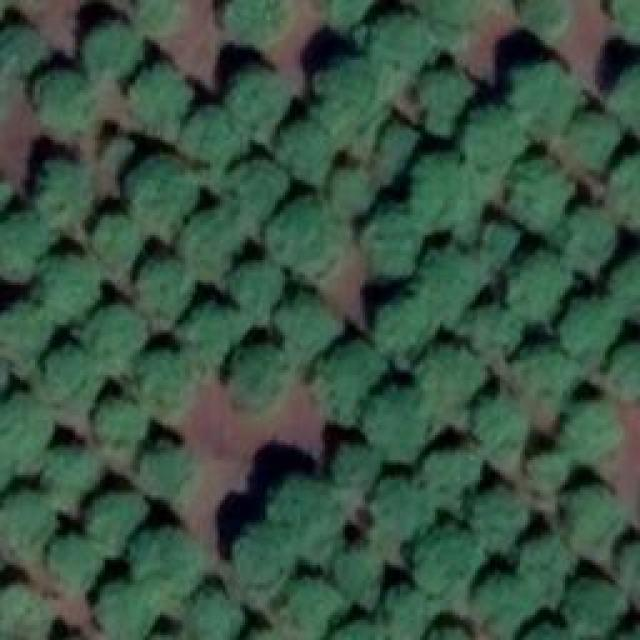Tree: (308, 332, 383, 410), (278, 200, 351, 270), (138, 153, 201, 233), (133, 58, 198, 133), (510, 245, 578, 315), (423, 340, 496, 405), (135, 530, 198, 603), (325, 60, 390, 130), (418, 158, 483, 228), (88, 492, 153, 560), (468, 105, 538, 168), (38, 158, 103, 223), (80, 10, 145, 75), (510, 155, 575, 220), (280, 480, 340, 550), (558, 295, 623, 358), (418, 523, 481, 586), (190, 103, 250, 168), (365, 385, 425, 450), (85, 303, 148, 363), (0, 493, 58, 558), (417, 445, 485, 500), (45, 250, 103, 313), (375, 288, 433, 351), (562, 208, 620, 271), (523, 535, 576, 603), (235, 68, 290, 133), (368, 213, 423, 278), (0, 302, 52, 369), (40, 70, 95, 133), (235, 525, 290, 588), (428, 245, 483, 308), (280, 585, 345, 638), (475, 575, 528, 640), (0, 582, 58, 640), (285, 295, 343, 353), (218, 0, 288, 48), (2, 398, 50, 468), (235, 343, 288, 406), (223, 163, 283, 218), (135, 348, 190, 408), (370, 485, 430, 540), (563, 398, 623, 453), (143, 255, 193, 320), (190, 210, 240, 275), (283, 120, 333, 185), (518, 64, 581, 115), (420, 67, 475, 125), (472, 488, 530, 543), (565, 487, 620, 545), (0, 217, 52, 277), (143, 437, 196, 495), (185, 300, 233, 363), (375, 13, 435, 63), (45, 448, 100, 501), (98, 585, 151, 640), (193, 585, 246, 640), (573, 580, 628, 633), (93, 395, 146, 448), (383, 583, 433, 638), (95, 218, 145, 271), (480, 400, 530, 453), (53, 535, 98, 593), (332, 443, 380, 496), (235, 260, 285, 310), (573, 110, 623, 160), (43, 345, 88, 400), (0, 25, 48, 75), (378, 123, 423, 176), (470, 305, 525, 348), (515, 357, 575, 395), (607, 152, 640, 215), (475, 220, 523, 263), (338, 555, 381, 603), (528, 0, 573, 40), (338, 165, 378, 210), (530, 450, 575, 490), (138, 0, 188, 35), (610, 345, 640, 403), (615, 64, 640, 125), (425, 0, 483, 25), (610, 252, 640, 300), (508, 622, 588, 640), (327, 0, 382, 22), (330, 622, 390, 640), (610, 0, 640, 35), (620, 542, 640, 580)
